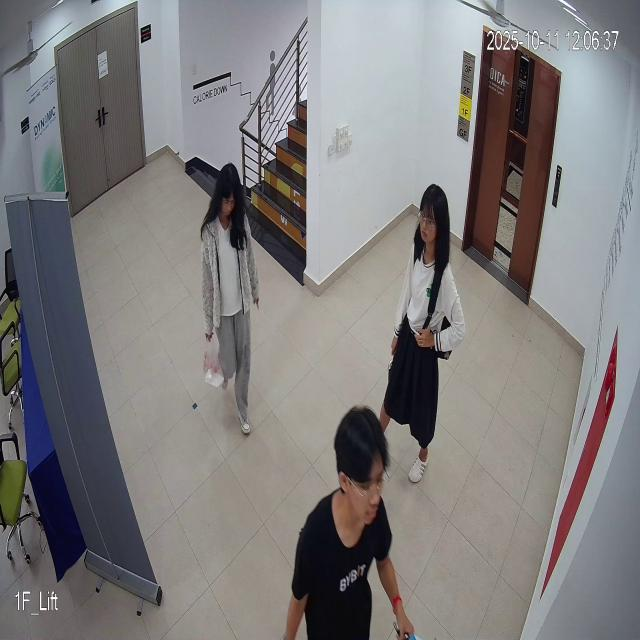face: (416, 173, 448, 260), (212, 160, 247, 230)
